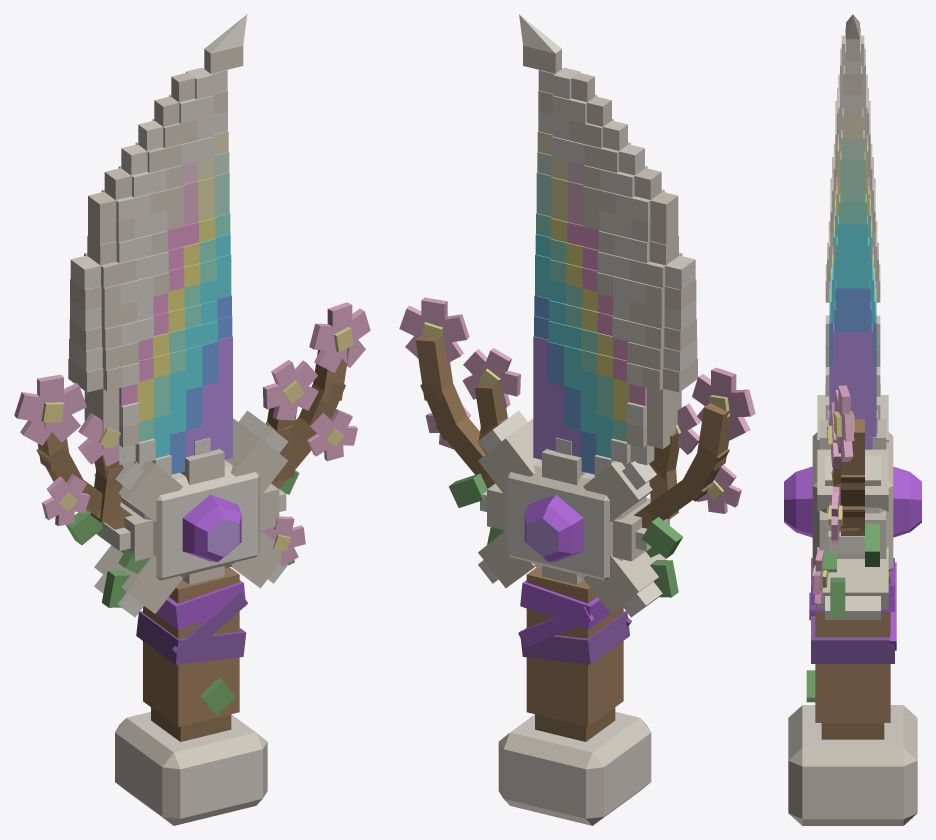
The model's file is glimmerhorn_daggers_roblox.glb.
3 views of the same model, side by side, from view 1: azimuth 30°, elevation 25°; view 2: azimuth 150°, elevation 25°; view 3: azimuth 270°, elevation 25° (orthographic). The views are drawn at different scales.
Parts seen in each view (by area): view 1: Daggers, Gems, Leaves; view 2: Daggers, Gems, Leaves; view 3: Daggers, Gems, Leaves.
Boxes of the visible parts, x1,y1,x2,y2 form: Daggers: [36, 14, 349, 825]; Gems: [119, 131, 241, 561]; Leaves: [14, 302, 370, 714]; Daggers: [415, 14, 729, 825]; Gems: [524, 131, 646, 561]; Leaves: [399, 297, 755, 597]; Daggers: [788, 14, 917, 825]; Gems: [784, 108, 921, 537]; Leaves: [806, 385, 879, 702].
Bounding box in the file's own units: 0.4032 × 0.84 × 0.128.
